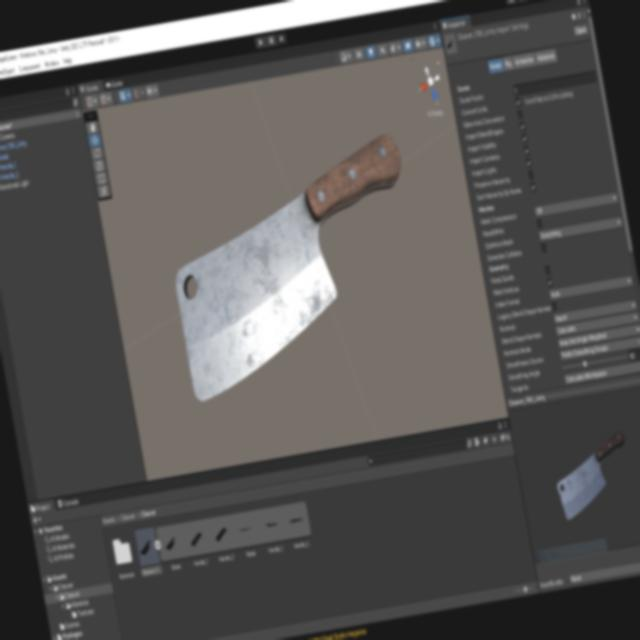cleaver: (152, 126, 440, 408)
